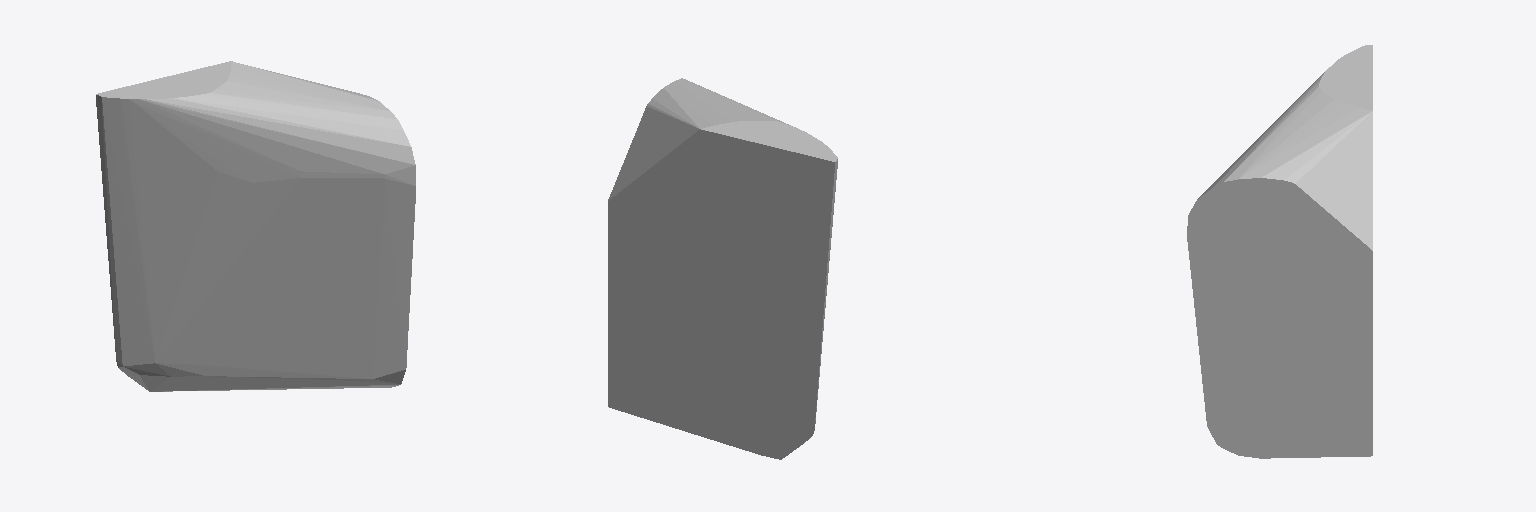
File: sofa_collision_9.obj
3 views of the same model, side by side, from view 1: azimuth 30°, elevation 25°; view 2: azimuth 150°, elevation 25°; view 3: azimuth 270°, elevation 25° (orthographic).
Size of the model in its own units: 106 by 138 by 74.82.